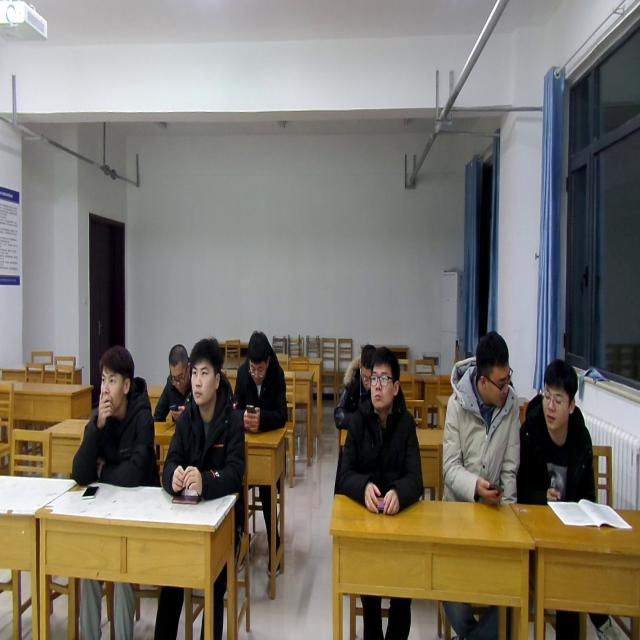bow: (229, 329, 289, 435), (332, 342, 377, 430)
down: (165, 341, 192, 392), (246, 327, 270, 384), (356, 341, 376, 393)
lookup: (538, 355, 578, 437), (96, 339, 135, 422), (188, 331, 224, 412), (367, 348, 402, 412)
sit: (336, 344, 426, 516), (440, 331, 521, 509), (161, 336, 247, 500), (71, 344, 156, 492), (518, 354, 598, 505), (152, 341, 192, 421)
